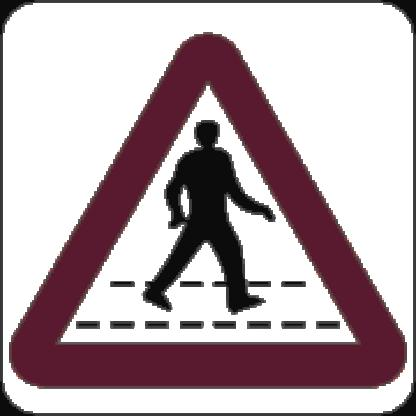Pedestrian Crossing: (40, 30, 382, 388)
